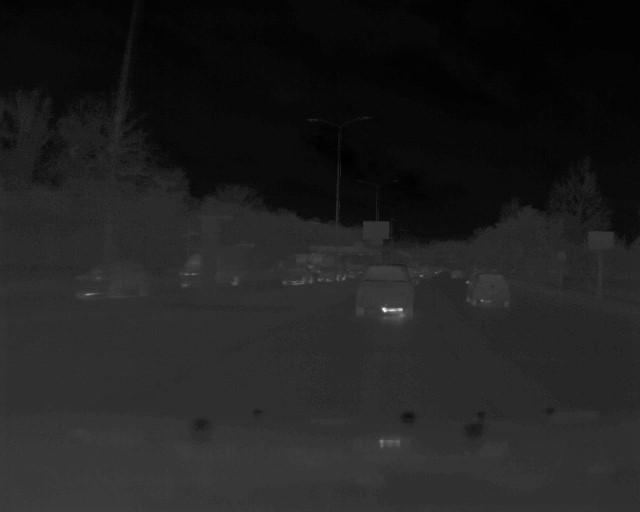car: (73, 255, 153, 301), (356, 263, 418, 318), (465, 272, 512, 307), (281, 264, 313, 287), (317, 265, 348, 284)
